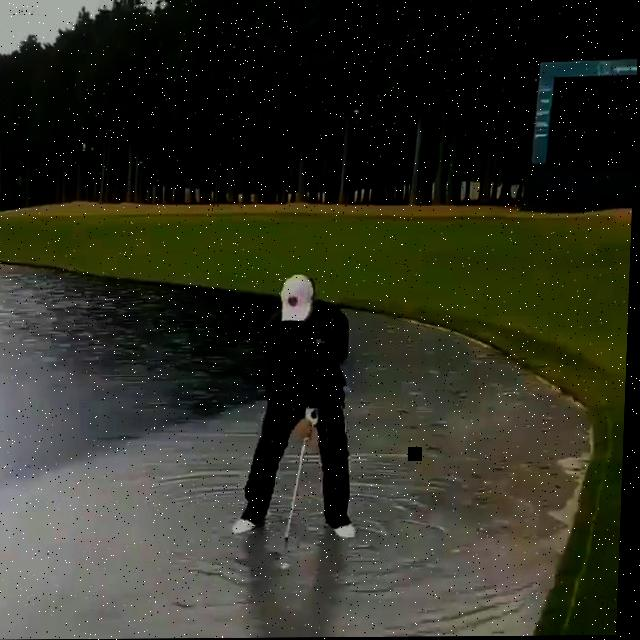ClubHead: (288, 536, 292, 543)
GolfBall: (285, 563, 296, 570)
